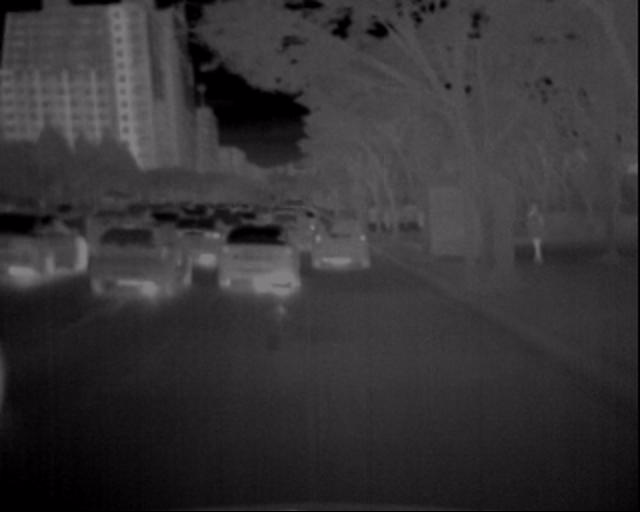person: (519, 199, 555, 269)
